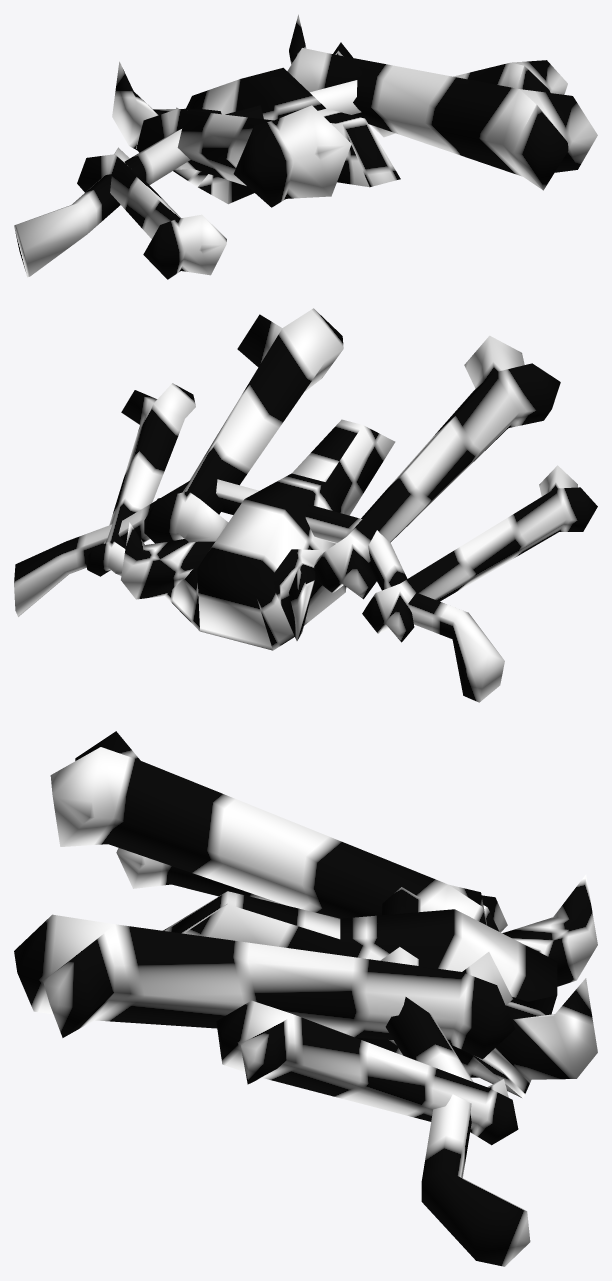
The model's file is initqu68.dae.
3 renders of one model, top to bottom at view 1: azimuth 30°, elevation 25°; view 2: azimuth 150°, elevation 25°; view 3: azimuth 270°, elevation 25°, orthographic. The views are drawn at different scales.
Visible parts, largest first — view 1: item; view 2: item; view 3: item.
Boxes of the visible parts, left/top/right/bottom form: item: left=14, top=14, right=597, bottom=279; item: left=14, top=308, right=597, bottom=702; item: left=14, top=731, right=597, bottom=1266.
Size of the model in its own units: 1.69 by 1.39 by 0.8383.
Materials: 1 (1 with a texture image).
